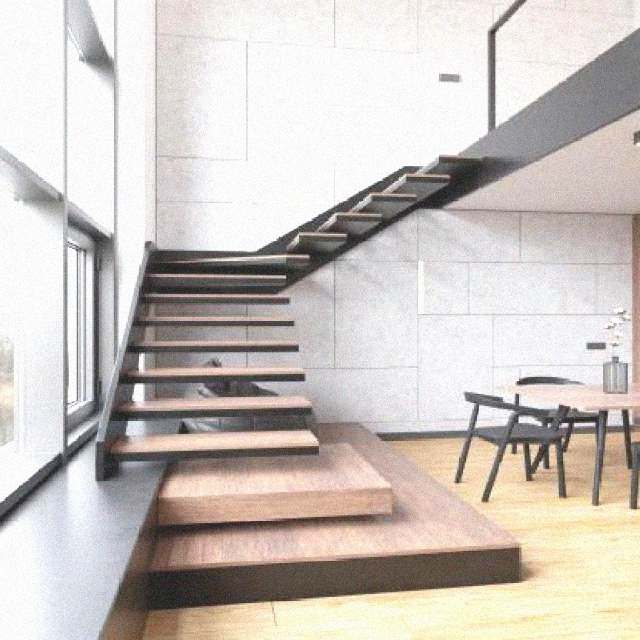stair: (73, 123, 547, 623)
